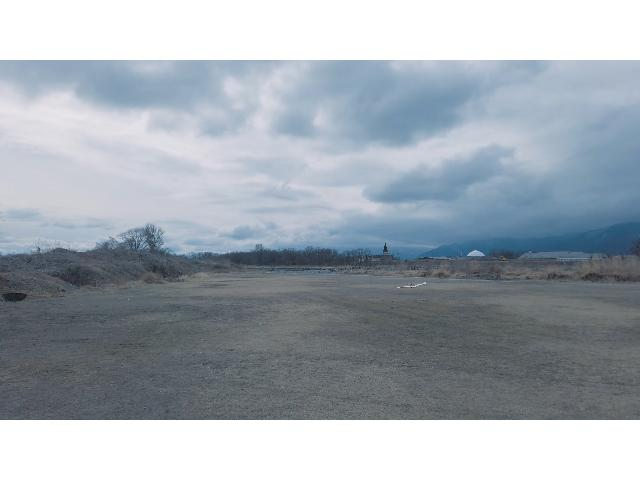Anti-Drone: (392, 280, 430, 292)
